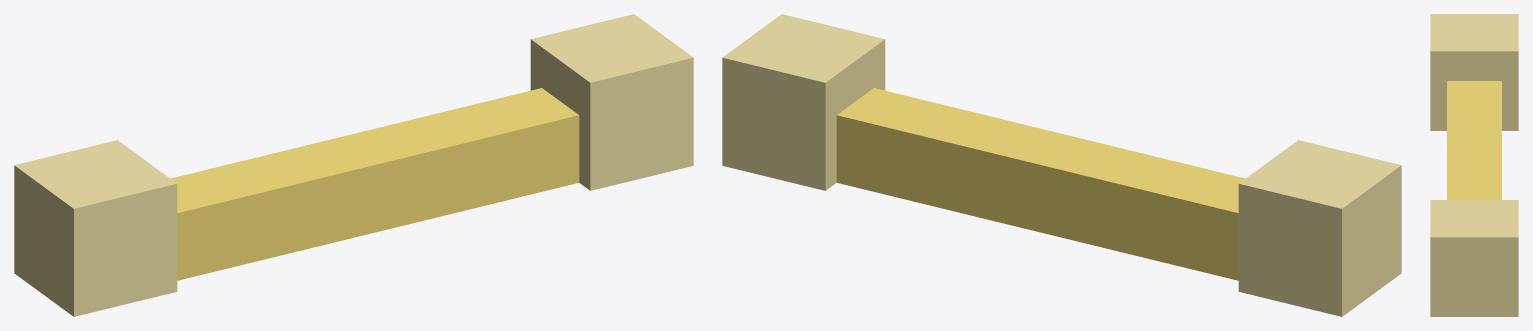
Rendered from Prop_Pet_AMF_ToyRope_V6.glb.
3 views of the same model, side by side, from view 1: azimuth 30°, elevation 25°; view 2: azimuth 150°, elevation 25°; view 3: azimuth 270°, elevation 25° (orthographic). The views are drawn at different scales.
Visible parts, largest first — view 1: Prop_Pet_AMF_ToyRope_V6; view 2: Prop_Pet_AMF_ToyRope_V6; view 3: Prop_Pet_AMF_ToyRope_V6.
Boxes of the visible parts, <box> form: Prop_Pet_AMF_ToyRope_V6: <box>14,14,693,316</box>; Prop_Pet_AMF_ToyRope_V6: <box>722,14,1401,316</box>; Prop_Pet_AMF_ToyRope_V6: <box>1430,14,1518,316</box>.
Size of the model in its own units: 0.48 by 0.08 by 0.08.
